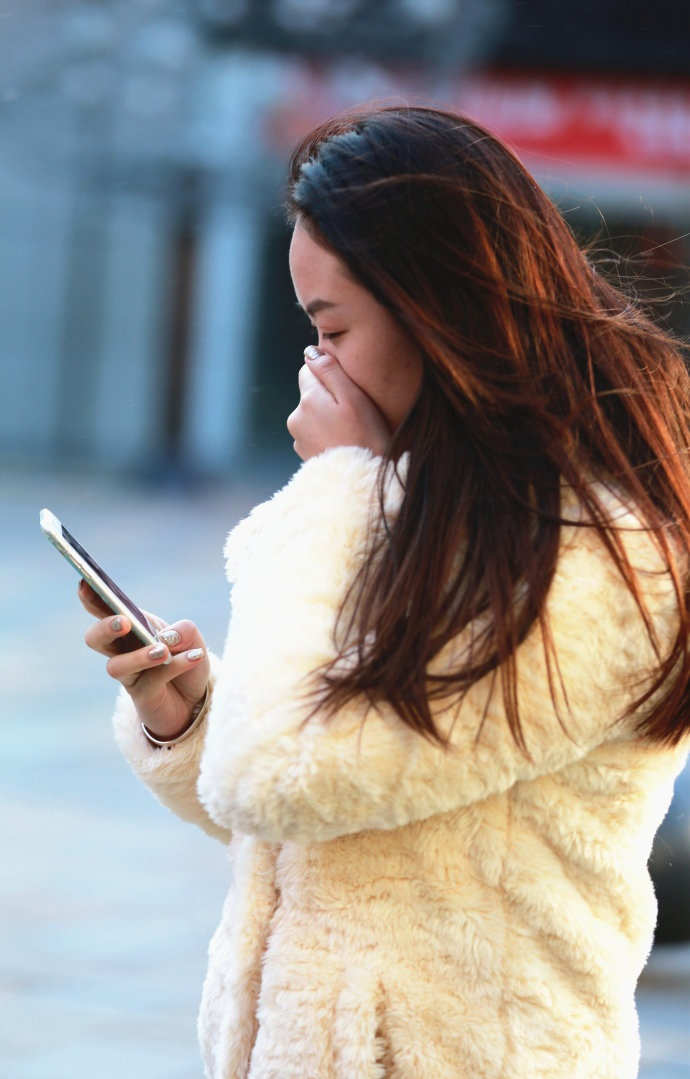face: (292, 211, 419, 454)
